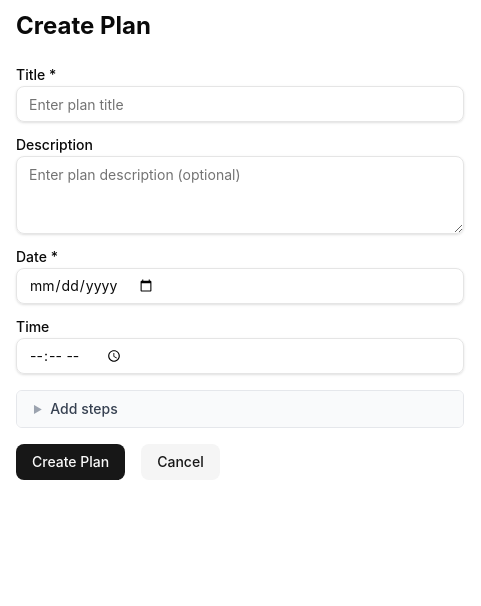
Test: PlanForm › step management › expands steps section when toggle is clicked
The image size is (481, 606).
Click the button with class "steps-toggle".
click(84, 408)  # box [17,391,463,427]
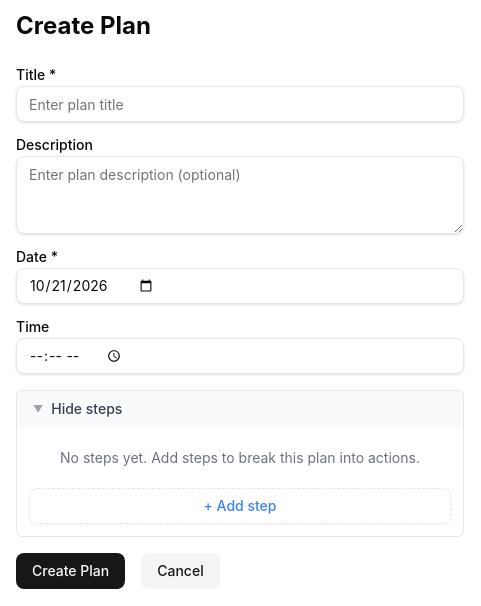
Expected: the element with class "steps-content" is shown, [17,427,463,536]
Expected: the text "No steps yet" is shown, [60,449,420,466]
